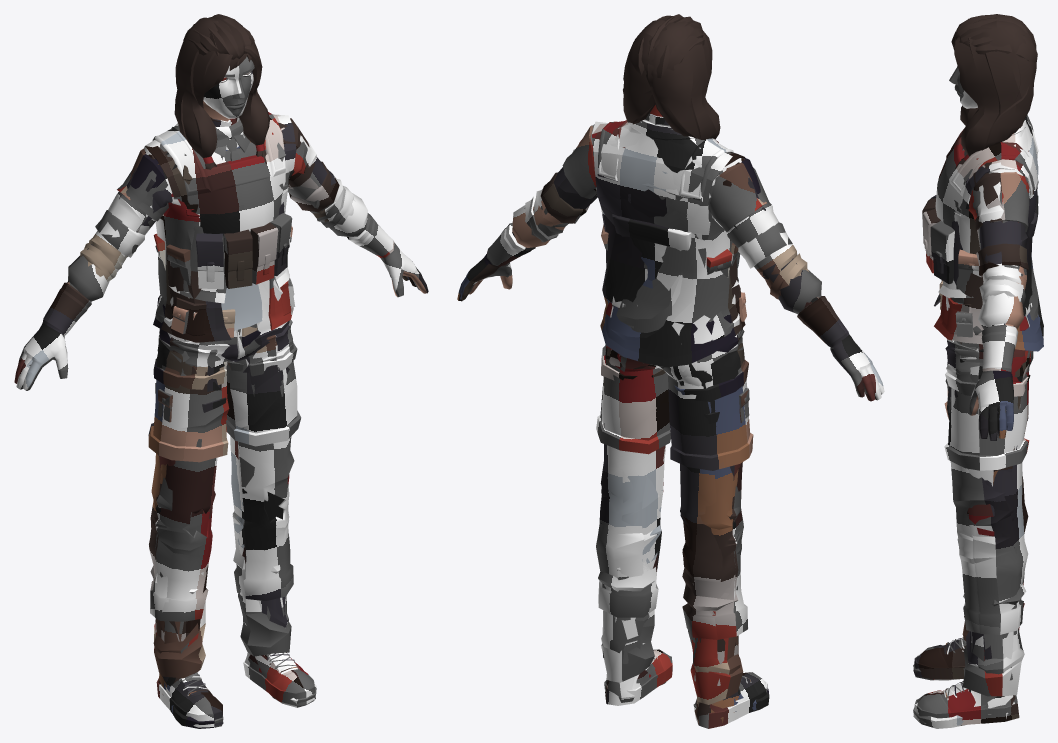
File: male 1.fbx
3 views of the same model, side by side, from view 1: azimuth 30°, elevation 25°; view 2: azimuth 150°, elevation 25°; view 3: azimuth 270°, elevation 25° (orthographic). The views are drawn at different scales.
Visible parts, largest first — view 1: 2040; view 2: 2040; view 3: 2040.
Part boxes in pixels (bbox=[...]): 2040: bbox=[14, 14, 428, 728]; 2040: bbox=[457, 14, 884, 728]; 2040: bbox=[913, 14, 1043, 728].
Size of the model in its own units: 1.18 by 1.84 by 0.3224.
